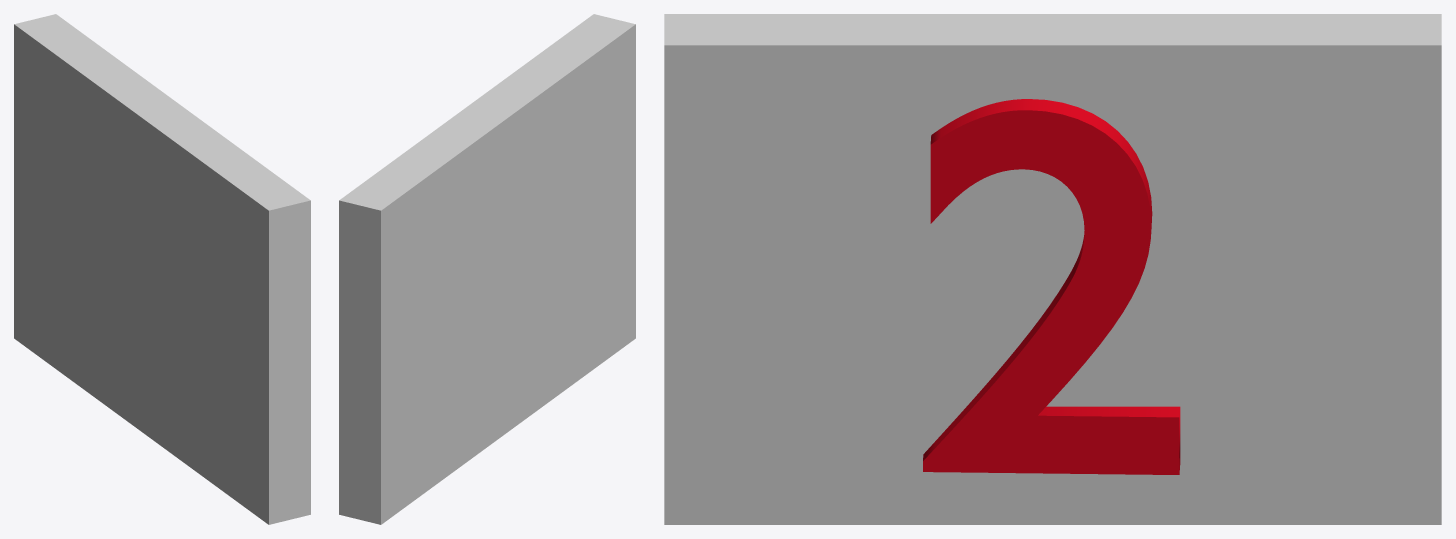
The model's file is row 2.fbx.
The picture shows the model from 3 angles, left to right: view 1: azimuth 30°, elevation 25°; view 2: azimuth 150°, elevation 25°; view 3: azimuth 270°, elevation 25°; orthographic projection. The views are drawn at different scales.
Parts seen in each view (by area): view 1: Cube; view 2: Cube; view 3: Cube, Text.
Boxes of the visible parts, x1=… form: Cube: x1=14, y1=14, x2=310, y2=524; Cube: x1=339, y1=14, x2=635, y2=524; Cube: x1=664, y1=14, x2=1441, y2=524; Text: x1=923, y1=99, x2=1180, y2=474.
Size of the model in its own units: 40.89 by 212 by 312.
